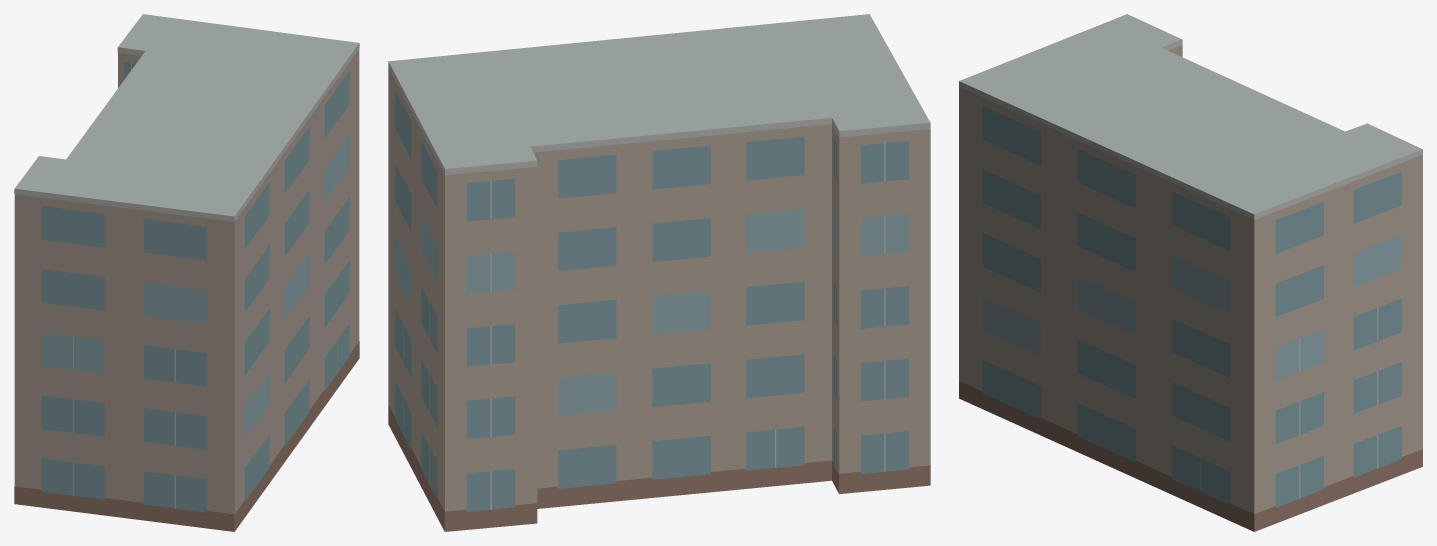
Rendered from survey-upis-32717238.glb.
The picture shows the model from 3 angles, left to right: view 1: azimuth 30°, elevation 25°; view 2: azimuth 150°, elevation 25°; view 3: azimuth 270°, elevation 25°; orthographic projection. The views are drawn at different scales.
Visible parts, largest first — view 1: survey-upis-32717238.tmp; view 2: survey-upis-32717238.tmp; view 3: survey-upis-32717238.tmp.
Boxes of the visible parts, bbox=[...] form: survey-upis-32717238.tmp: bbox=[14, 14, 359, 531]; survey-upis-32717238.tmp: bbox=[388, 14, 930, 531]; survey-upis-32717238.tmp: bbox=[959, 14, 1422, 531].
Size of the model in its own units: 19.24 by 14.2 by 18.81.
